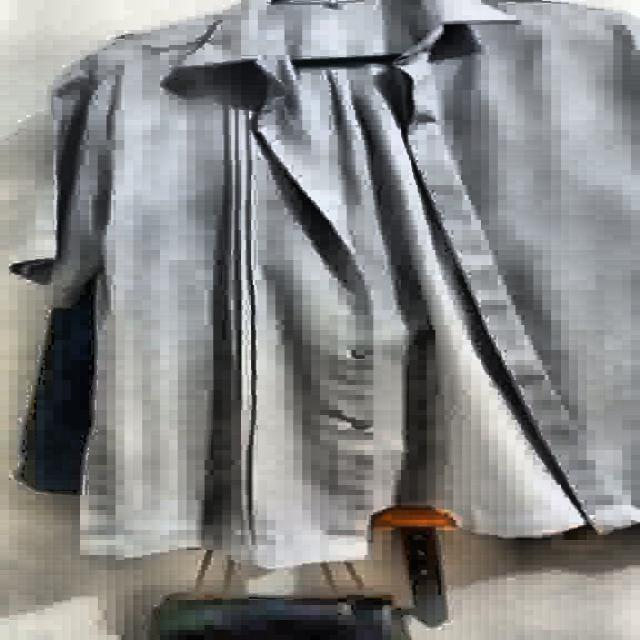clothes: (9, 0, 640, 570)
